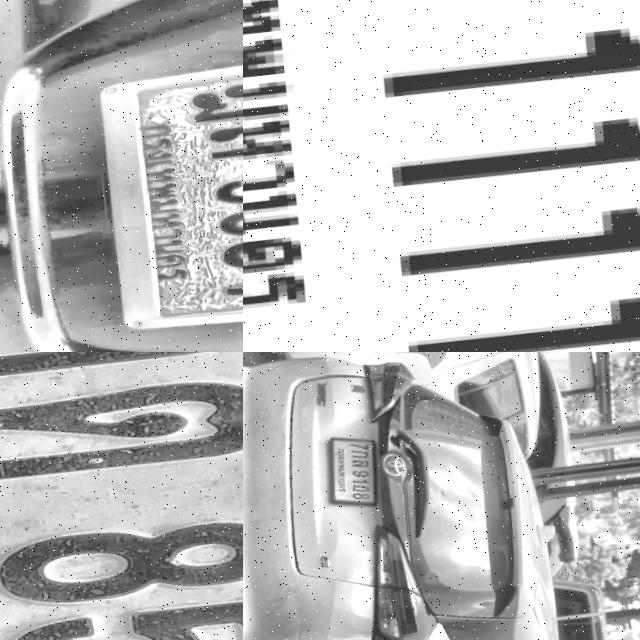license-plate: (243, 0, 640, 352), (0, 352, 243, 640), (86, 40, 243, 343), (316, 429, 391, 513)
